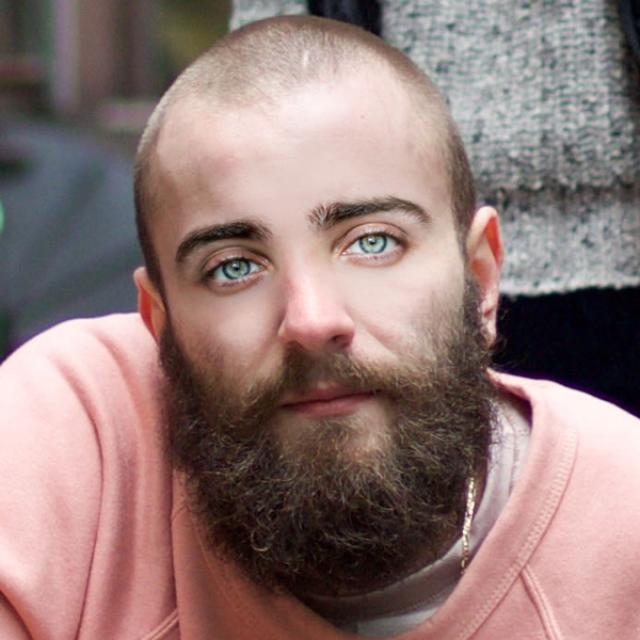face: (108, 21, 518, 587)
